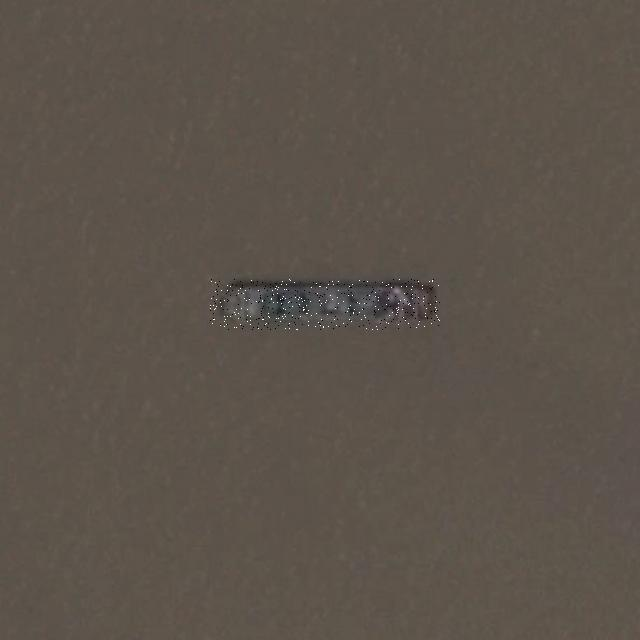boat: (210, 279, 440, 330)
